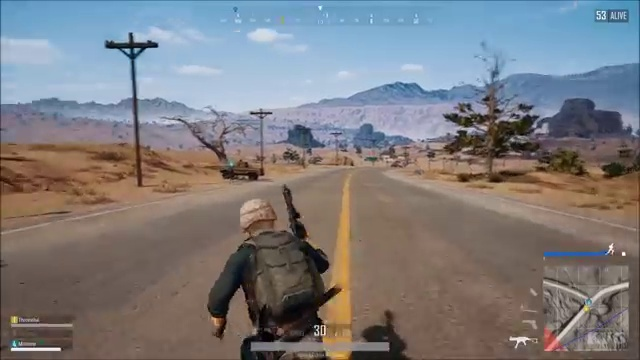Player: (202, 189, 343, 315)
